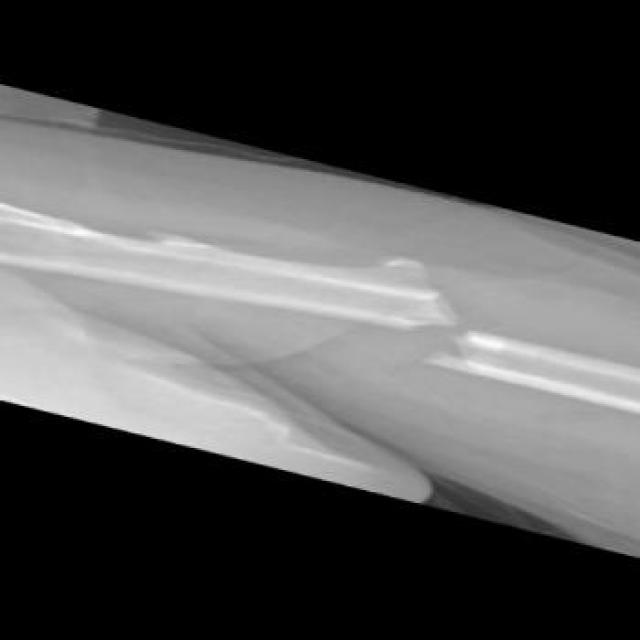fracture: (374, 285, 504, 384)
